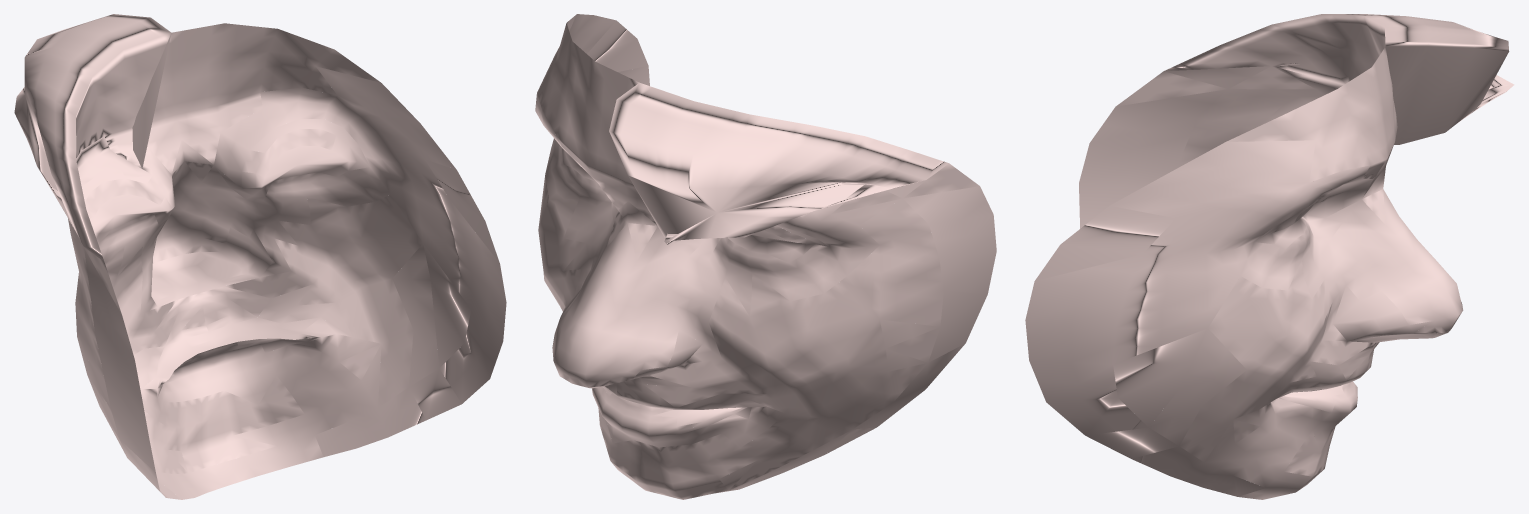
Rendered from head.glb.
3 renders of one model, left to right at view 1: azimuth 30°, elevation 25°; view 2: azimuth 150°, elevation 25°; view 3: azimuth 270°, elevation 25°, orthographic. The views are drawn at different scales.
Parts seen in each view (by area): view 1: Face; view 2: Face; view 3: Face.
Boxes of the visible parts, bbox=[...] form: Face: bbox=[14, 14, 506, 499]; Face: bbox=[535, 14, 996, 499]; Face: bbox=[1025, 14, 1514, 499].
Size of the model in its own units: 0.193 by 0.22 by 0.2246.
